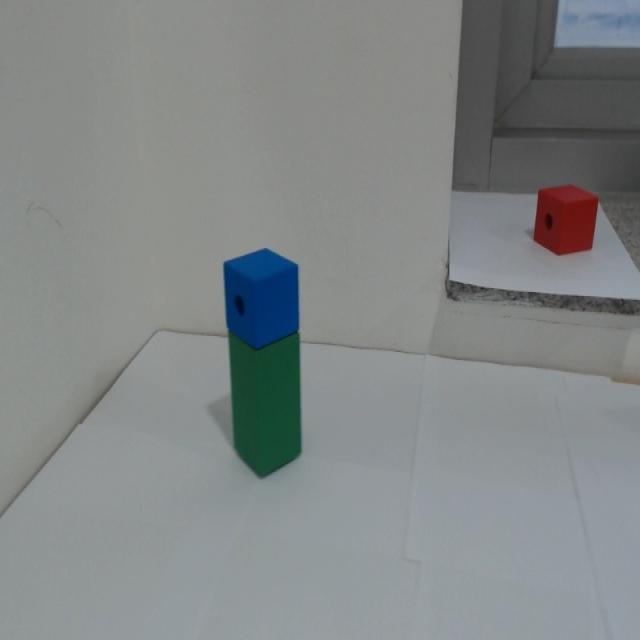cube: (211, 235, 331, 359)
